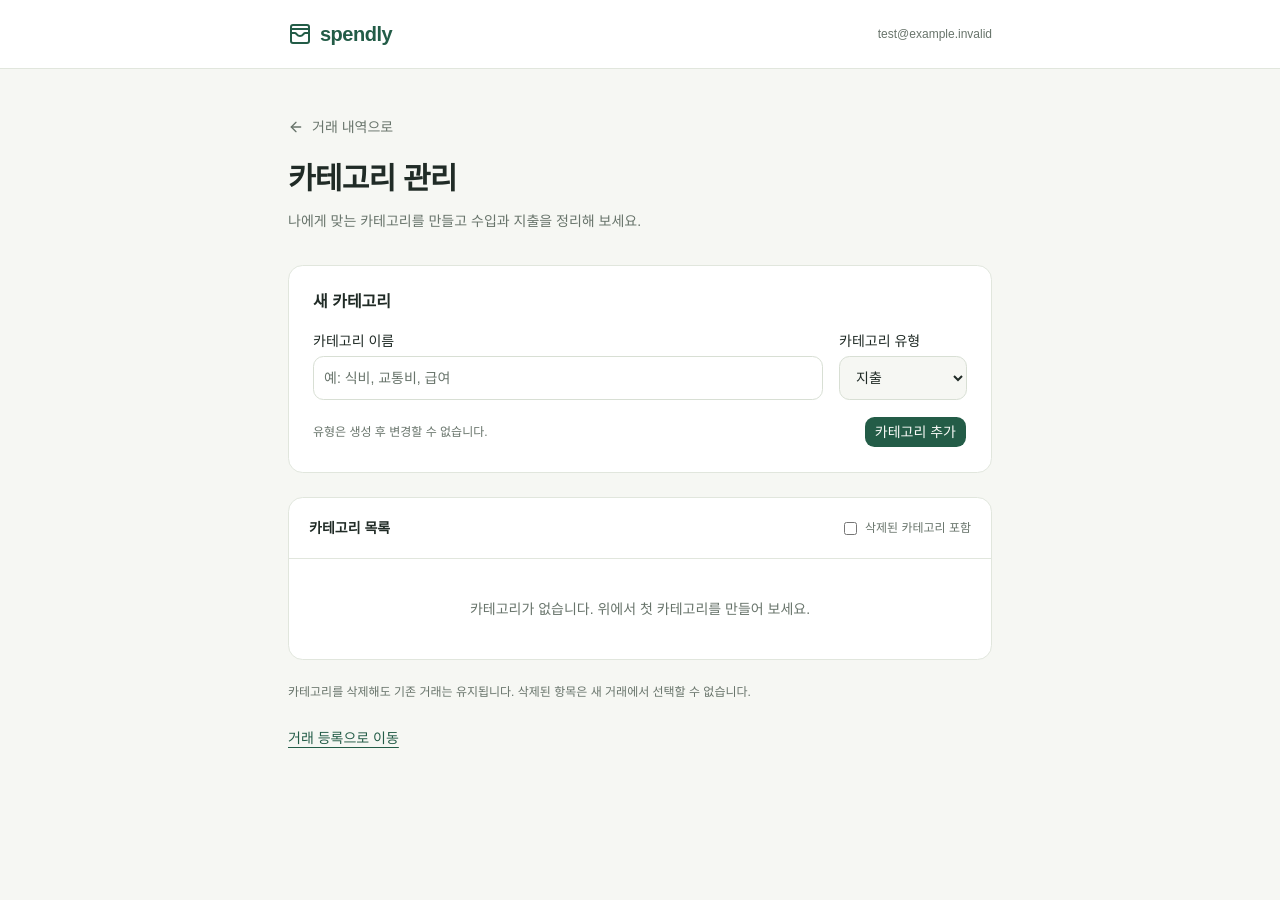
keeps duplicate category names editable and maps the category-specific conflict
Type "식비" into the field labelled "카테고리 이름" at [568, 378], box [313,356,823,400]
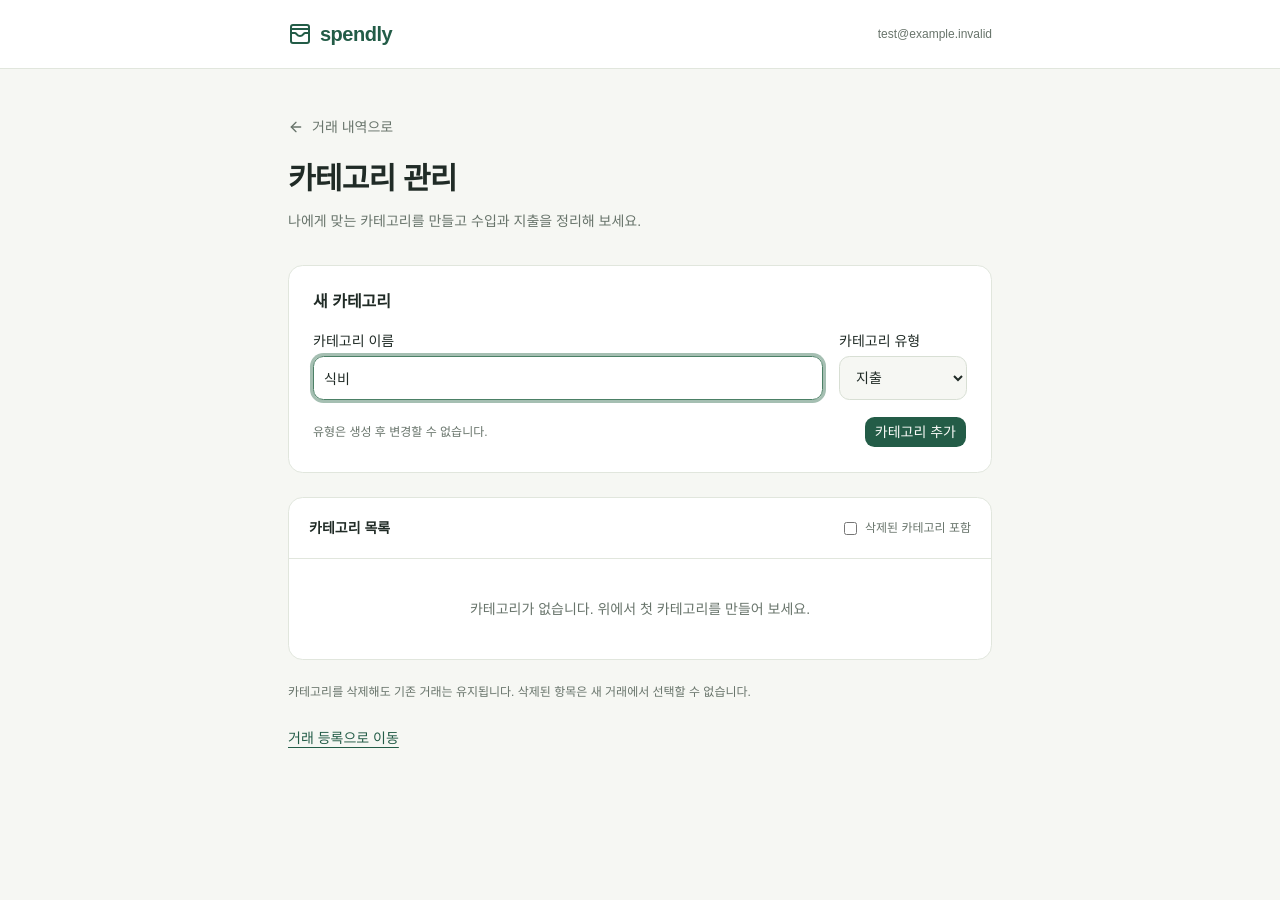
Click the button "카테고리 추가" at [915, 432], box [864,416,967,448]
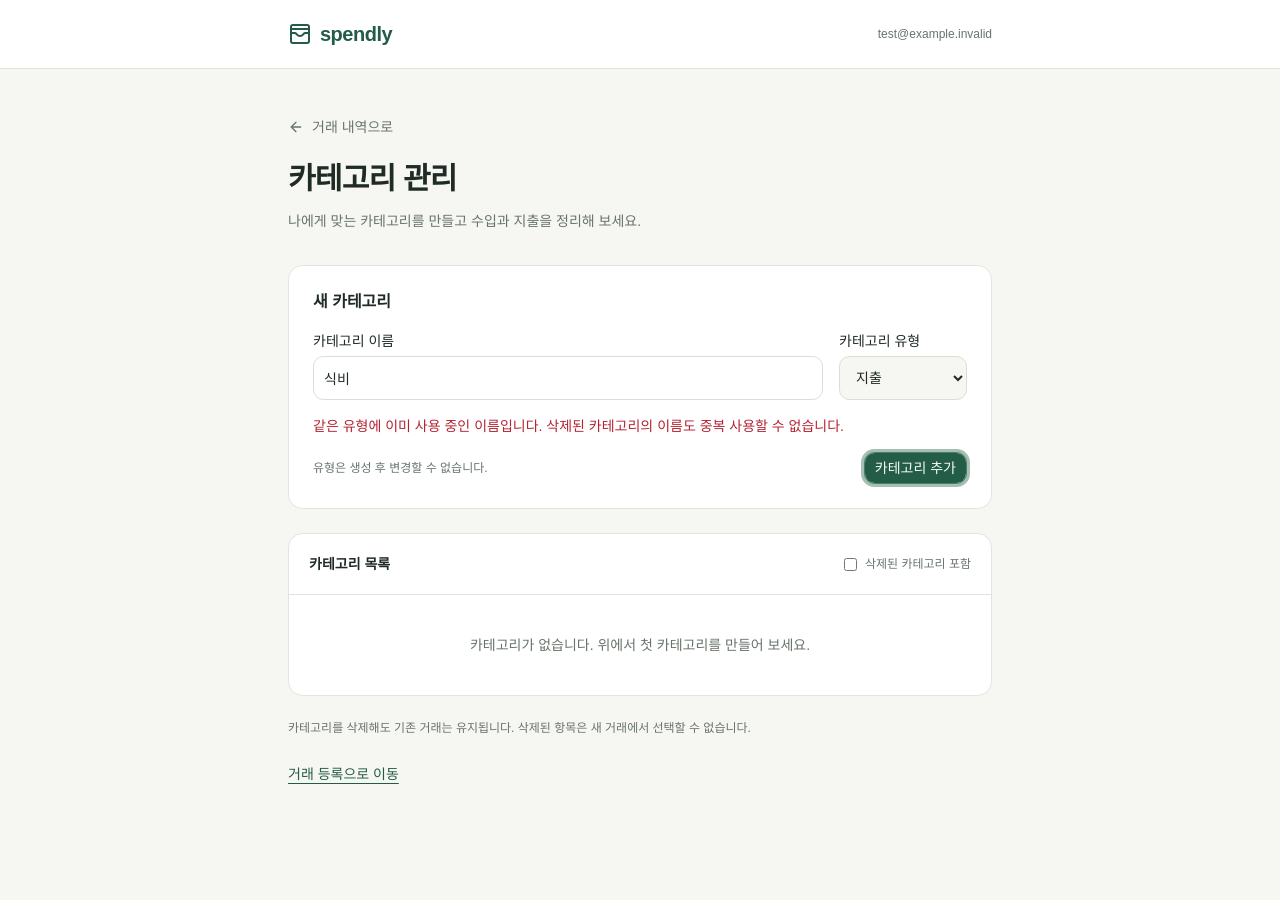
Expected: the message shows "이미 사용 중인 이름", [313,418,844,434]
